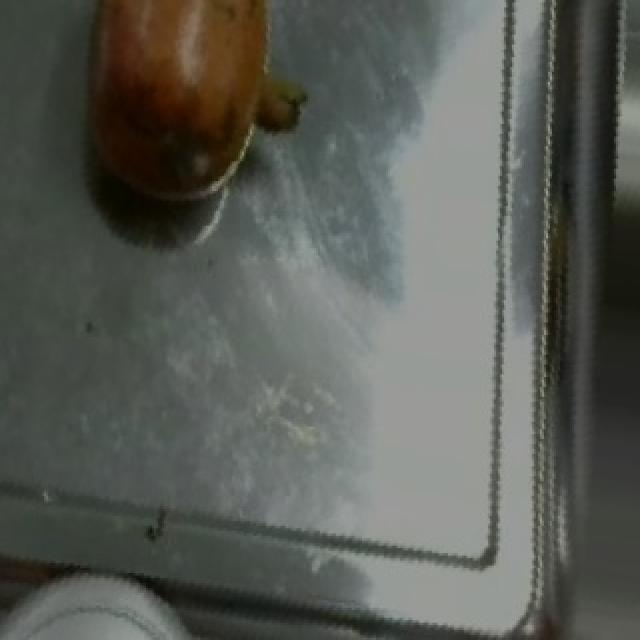fruit: (46, 0, 320, 233), (0, 541, 208, 640)
